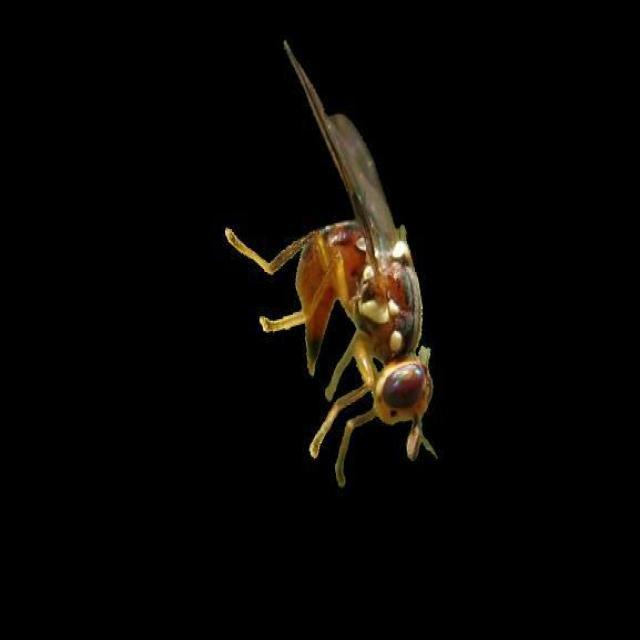Anthracnose: (225, 41, 436, 486)
